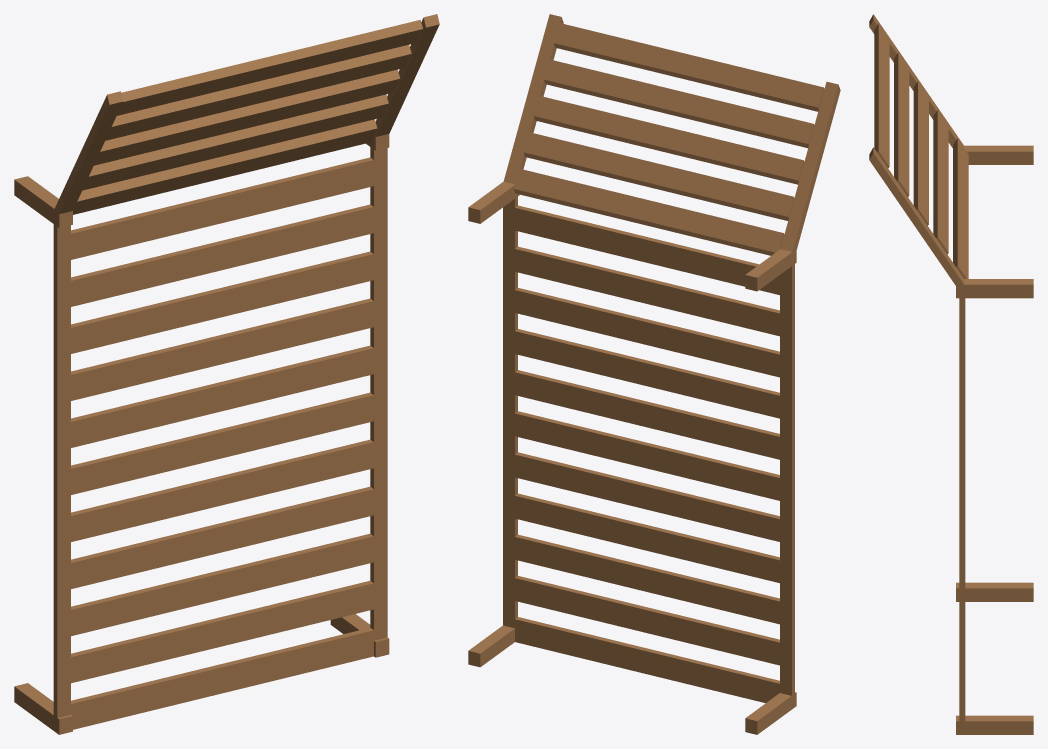
File: Prison_Solitary_Bed.obj
The picture shows the model from 3 angles, left to right: view 1: azimuth 30°, elevation 25°; view 2: azimuth 150°, elevation 25°; view 3: azimuth 270°, elevation 25°; orthographic projection. The views are drawn at different scales.
Visible parts, largest first — view 1: obj_0; view 2: obj_0; view 3: obj_0.
Boxes of the visible parts, <box> form: obj_0: <box>14,14,439,734</box>; obj_0: <box>468,14,840,734</box>; obj_0: <box>869,14,1033,734</box>.
Size of the model in its own units: 8 by 15.64 by 4.
